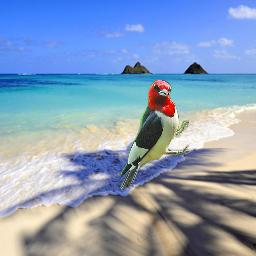Woodpecker: (117, 79, 189, 190)
